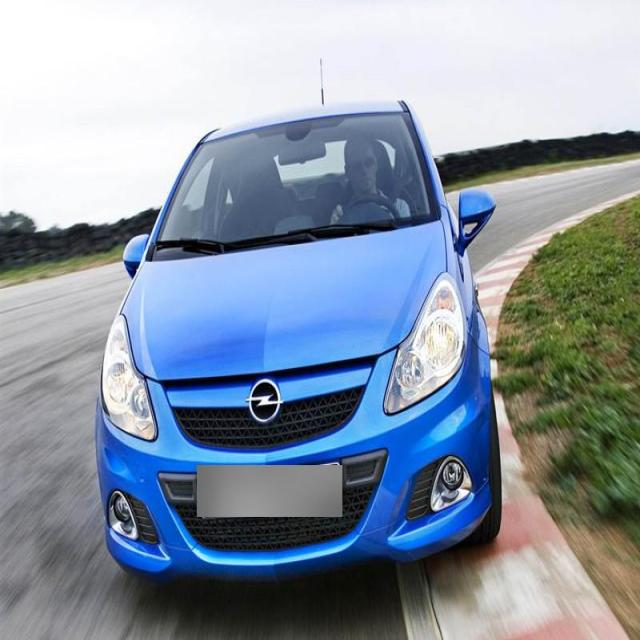front_bumper: (92, 367, 496, 578)
front_glass: (145, 108, 445, 263)
front_left_side_light: (382, 268, 467, 418)
front_left_side_mirror: (456, 184, 498, 254)
front_right_side_light: (97, 312, 159, 443)
front_right_side_mirror: (121, 230, 157, 281)
